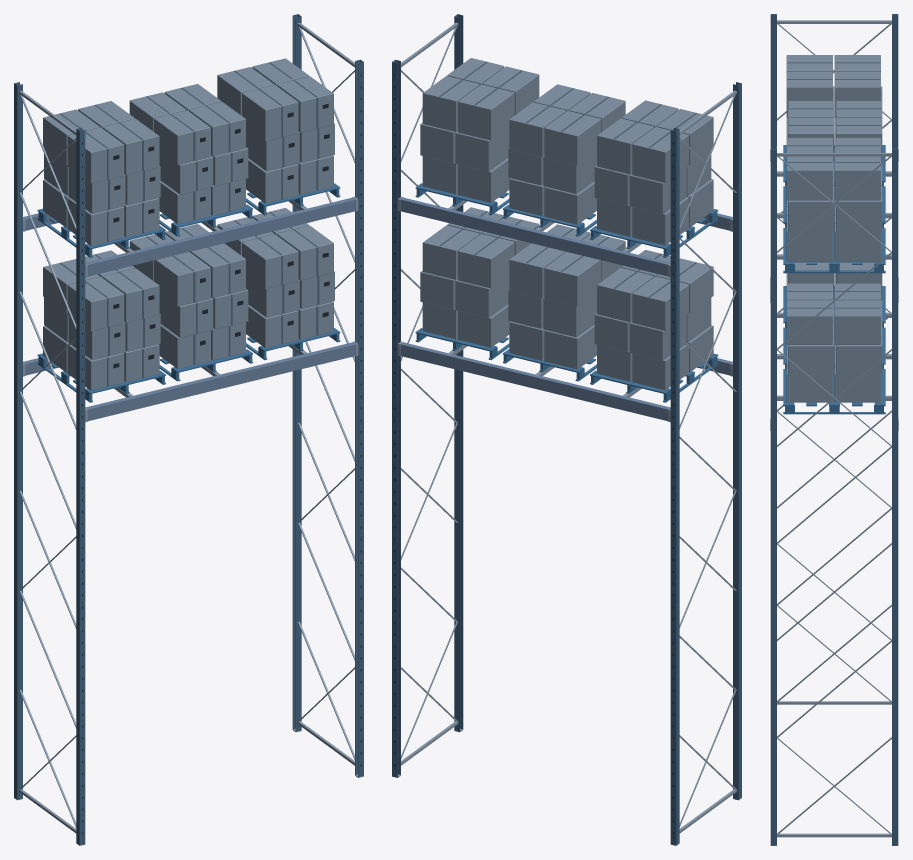
The model's file is SM_GHS_V2Rack_C_Pass.fbx.
The picture shows the model from 3 angles, left to right: view 1: azimuth 30°, elevation 25°; view 2: azimuth 150°, elevation 25°; view 3: azimuth 270°, elevation 25°; orthographic projection. The views are drawn at different scales.
Parts seen in each view (by area): view 1: SM_GHS_V2Rack_C_Pass; view 2: SM_GHS_V2Rack_C_Pass; view 3: SM_GHS_V2Rack_C_Pass.
Boxes of the visible parts, x1,y1,x2,y2 form: SM_GHS_V2Rack_C_Pass: [14, 14, 363, 845]; SM_GHS_V2Rack_C_Pass: [392, 14, 741, 845]; SM_GHS_V2Rack_C_Pass: [770, 14, 898, 845].
Bounding box in the file's own units: 381 × 153 × 915.
